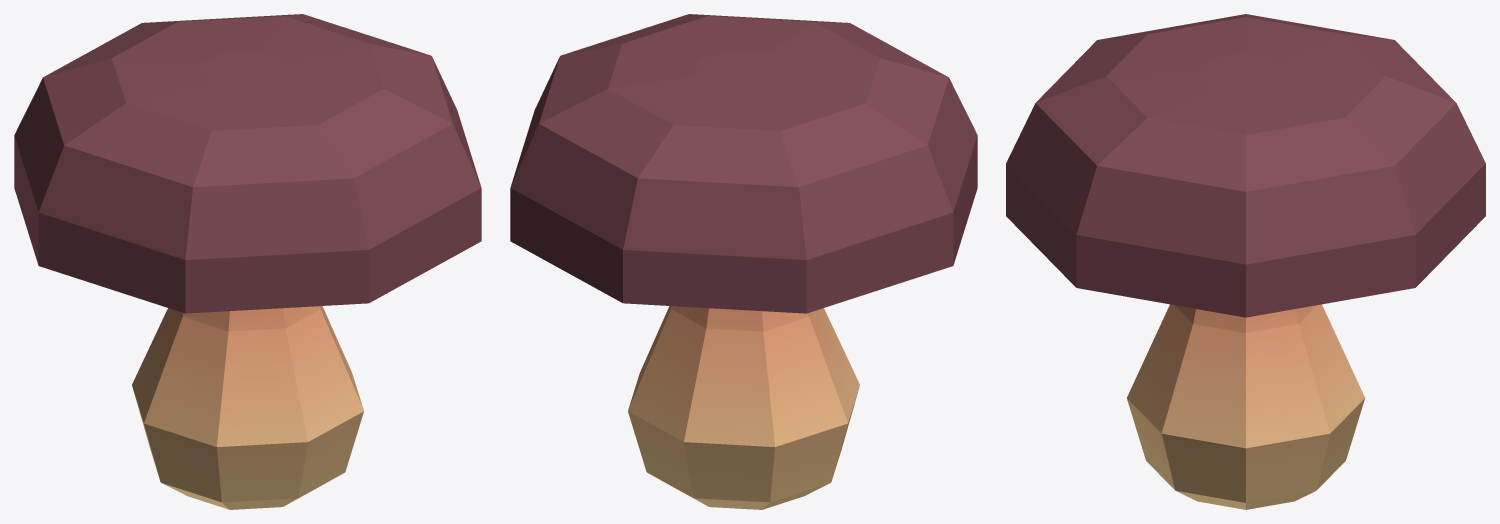
Rendered from Cavern_Mushroom_Big01.fbx.
The picture shows the model from 3 angles, left to right: view 1: azimuth 30°, elevation 25°; view 2: azimuth 150°, elevation 25°; view 3: azimuth 270°, elevation 25°; orthographic projection.
Visible parts, largest first — view 1: Cylinder.199; view 2: Cylinder.199; view 3: Cylinder.199.
Part boxes in pixels (x1=…): Cylinder.199: x1=14, y1=14, x2=481, y2=509; Cylinder.199: x1=510, y1=14, x2=977, y2=509; Cylinder.199: x1=1006, y1=14, x2=1485, y2=509.
Bounding box in the file's own units: 47.89 × 44.9 × 47.89.
